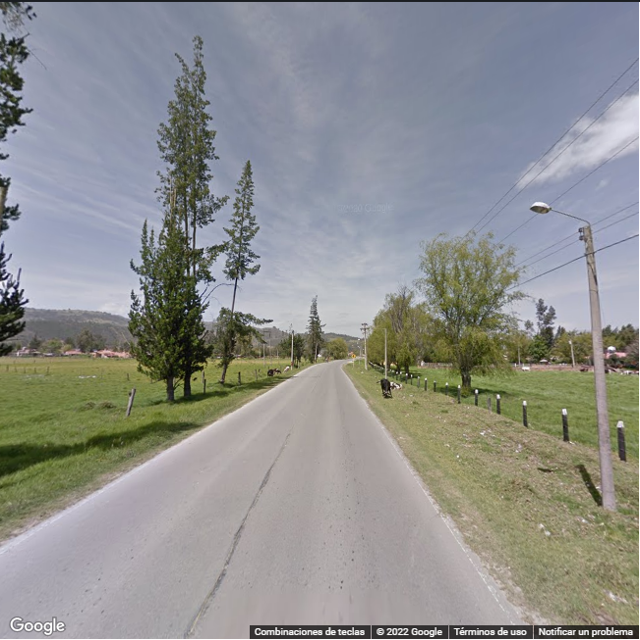D00: (186, 433, 288, 639)
